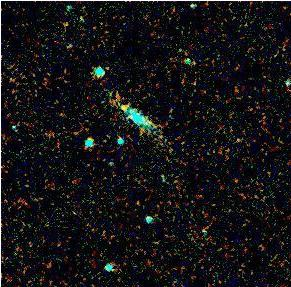star: (108, 92, 138, 122)
